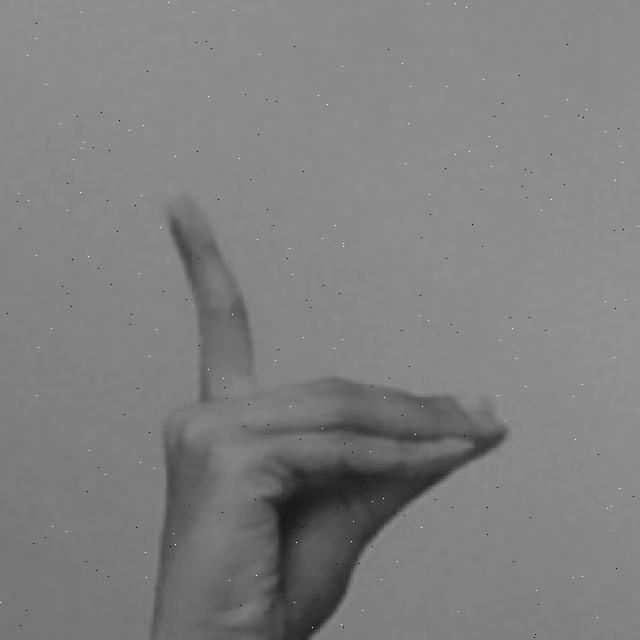D: (151, 188, 515, 640)
